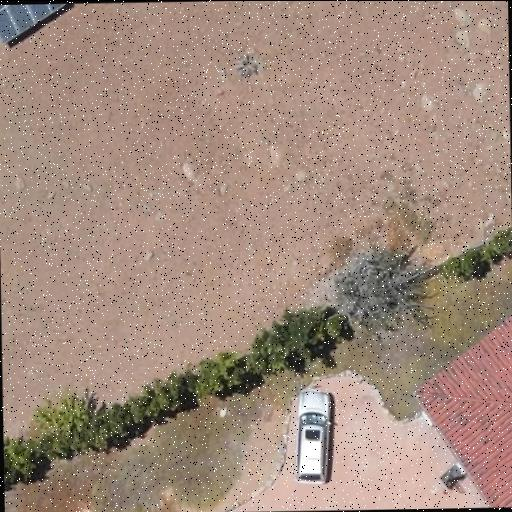solar-panel: (0, 3, 72, 46)
